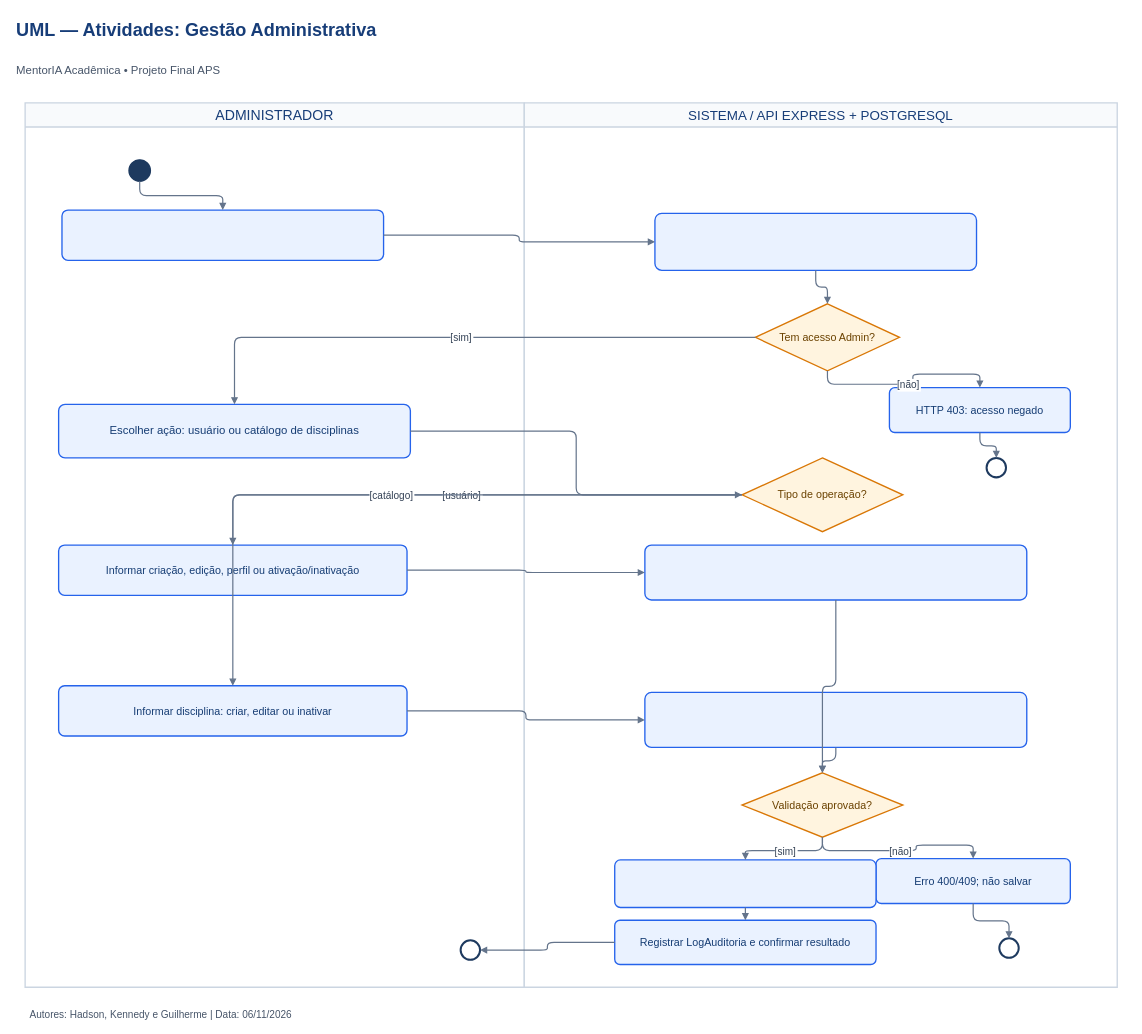
The diagram is 1142 pixels wide and 1034 high, and some of its shapes have lost their labels. The shapes that lost their labels are listed below. From the top down, each one's box as (x1, y1, x2, y2) in pixels, then its label:
(61, 209, 384, 261): Acessar painel de administração
(654, 212, 977, 271): Validar JWT, usuário ativo e perfil atual
(644, 544, 1027, 600): Validar e-mail, perfil e proteção do último admin
(644, 691, 1027, 748): Validar código único e vínculos históricos
(614, 859, 876, 908): Salvar operação, cancelar reservas futuras se inativar usuário
